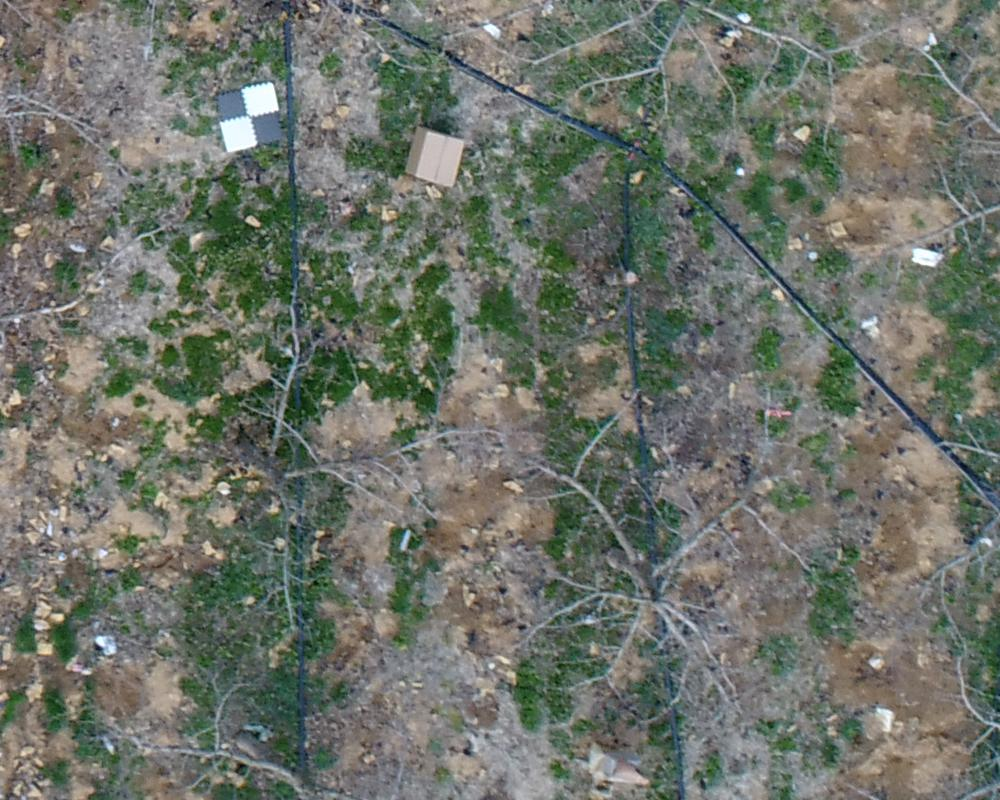apple: (190, 232, 517, 637), (494, 388, 810, 730), (80, 656, 573, 790), (438, 10, 852, 163)
